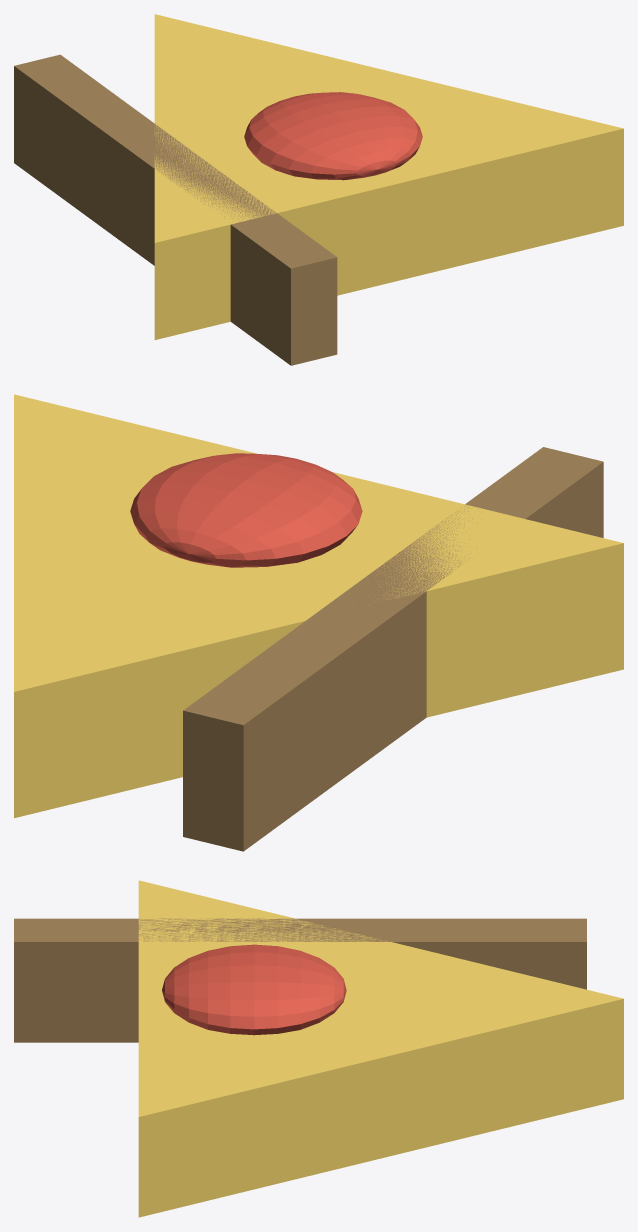
The model's file is pie.glb.
3 views of the same model, one above another, from view 1: azimuth 30°, elevation 25°; view 2: azimuth 150°, elevation 25°; view 3: azimuth 270°, elevation 25° (orthographic). The views are drawn at different scales.
Parts seen in each view (by area): view 1: PieSlice, PieCrust, PieTop; view 2: PieSlice, PieCrust, PieTop; view 3: PieSlice, PieCrust, PieTop.
Boxes of the visible parts, x1,y1,x2,y2 form: PieSlice: (154,14,623,339); PieCrust: (14,54,337,365); PieTop: (244,92,422,180); PieSlice: (14,394,623,818); PieCrust: (183,447,603,851); PieTop: (130,453,362,567); PieSlice: (138,880,623,1217); PieCrust: (14,918,586,1042); PieTop: (162,944,346,1035).
Bounding box in the file's own units: 0.6062 × 0.16 × 0.66.
